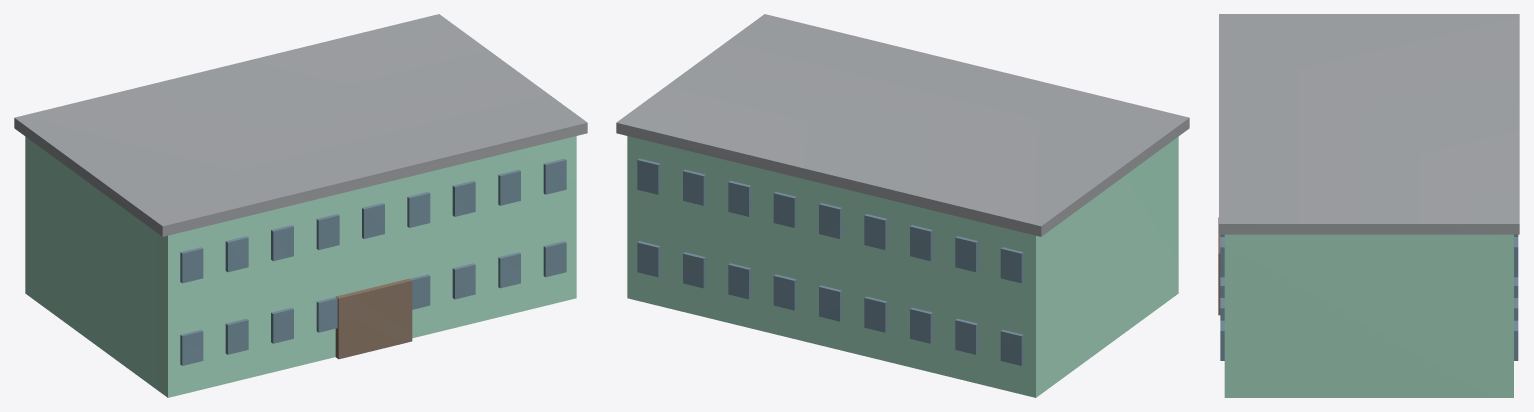
The model's file is warehouse-01.glb.
3 renders of one model, left to right at view 1: azimuth 30°, elevation 25°; view 2: azimuth 150°, elevation 25°; view 3: azimuth 270°, elevation 25°, orthographic.
Parts seen in each view (by area): view 1: world; view 2: world; view 3: world.
Part boxes in pixels (bbox=[...]): world: bbox=[14, 14, 587, 397]; world: bbox=[616, 14, 1189, 397]; world: bbox=[1218, 14, 1519, 397].
Bounding box in the file's own units: 2.93 × 1.16 × 1.78.
